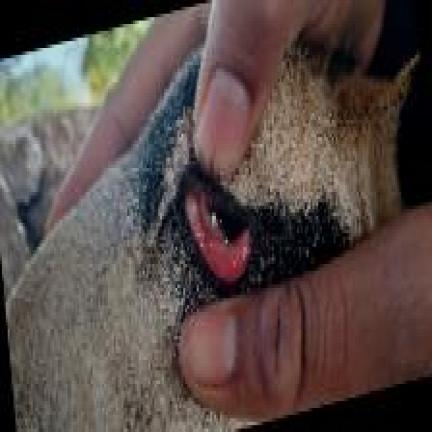goat-eye-anemia-22222222: (178, 210, 252, 298)
